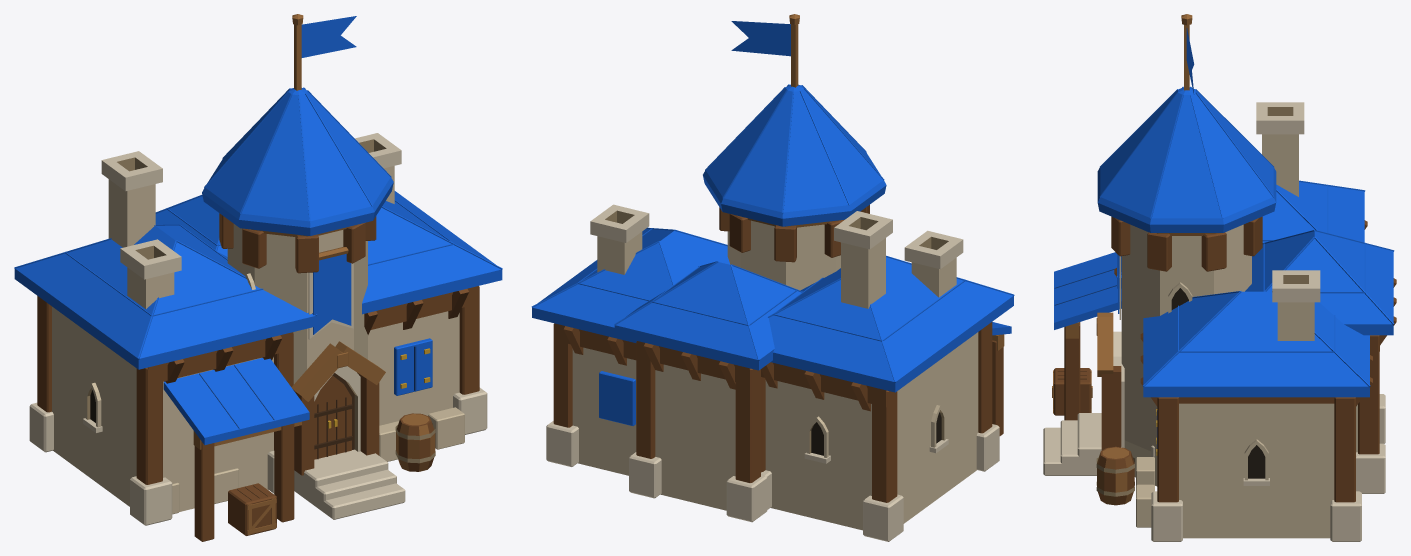
The model's file is settlement.glb.
3 renders of one model, left to right at view 1: azimuth 30°, elevation 25°; view 2: azimuth 150°, elevation 25°; view 3: azimuth 270°, elevation 25°, orthographic. The views are drawn at different scales.
Visible parts, largest first — view 1: settlement; view 2: settlement; view 3: settlement.
Part boxes in pixels (x1,y1,x2,y2): settlement: [14, 14, 502, 541]; settlement: [531, 14, 1014, 541]; settlement: [1043, 14, 1396, 541].
Bounding box in the file's own units: 0.3891 × 0.4379 × 0.3152.
